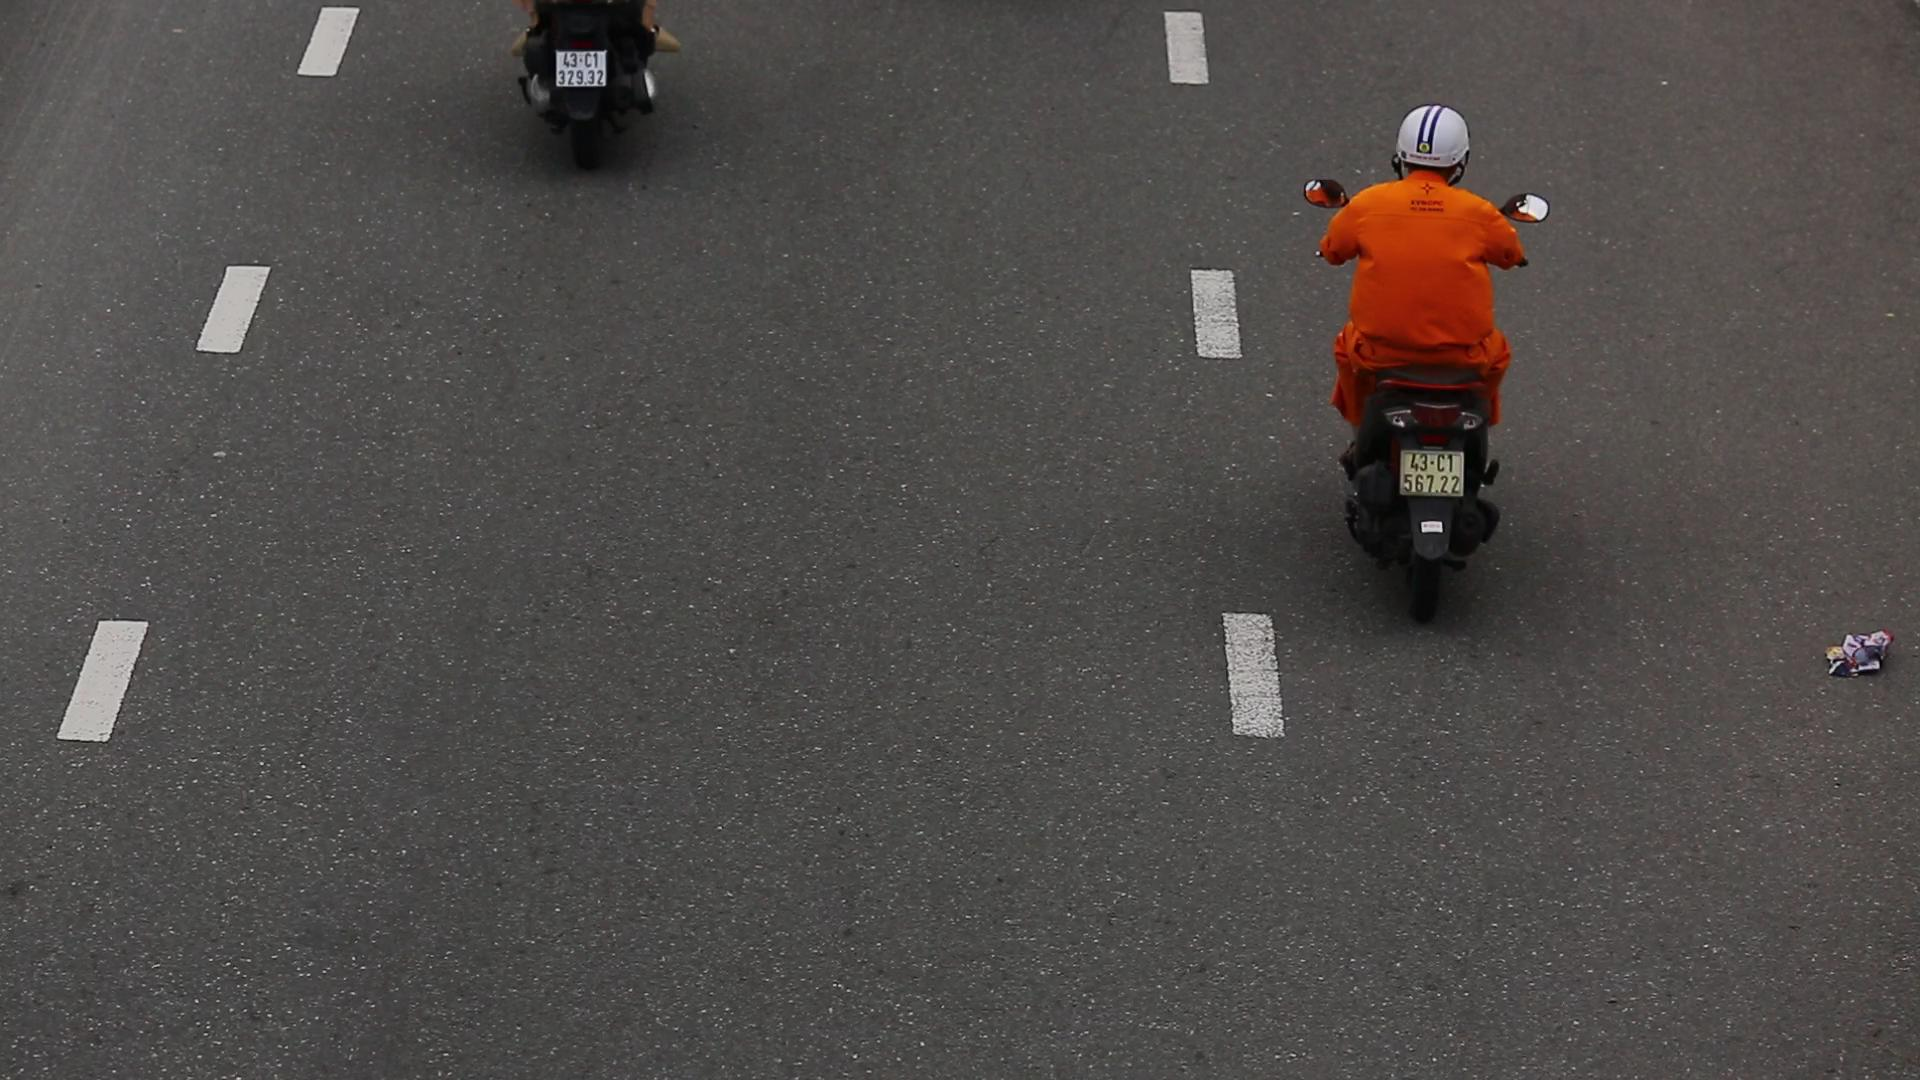motobike: (1284, 87, 1561, 638)
